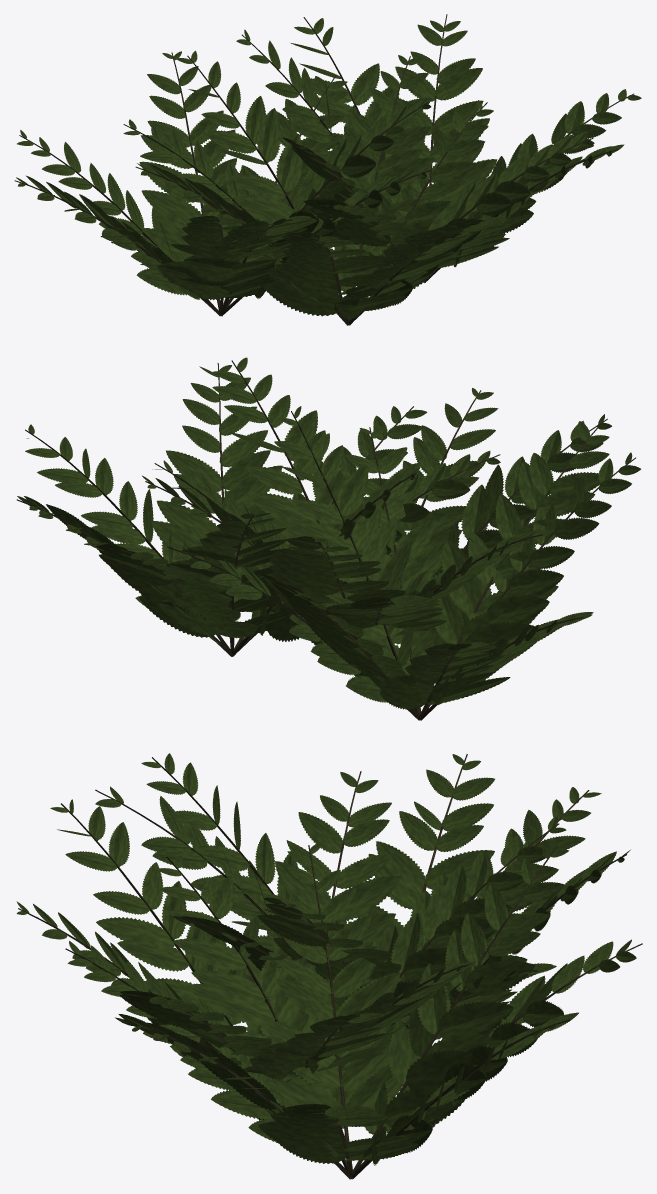
File: rock_fern_v02.fbx
3 renders of one model, top to bottom at view 1: azimuth 30°, elevation 25°; view 2: azimuth 150°, elevation 25°; view 3: azimuth 270°, elevation 25°, orthographic. The views are drawn at different scales.
Parts seen in each view (by area): view 1: rock_fern_v02; view 2: rock_fern_v02; view 3: rock_fern_v02.
Part boxes in pixels (x1,y1,x2,y2): rock_fern_v02: [14, 14, 641, 325]; rock_fern_v02: [16, 357, 640, 720]; rock_fern_v02: [16, 753, 642, 1179].
Size of the model in its own units: 39.72 by 14.38 by 29.94.
2 materials, 2 textured.
